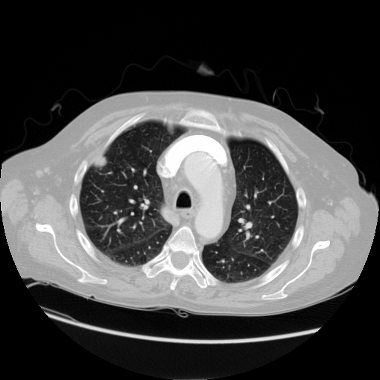nodule: (95, 156, 107, 168)
